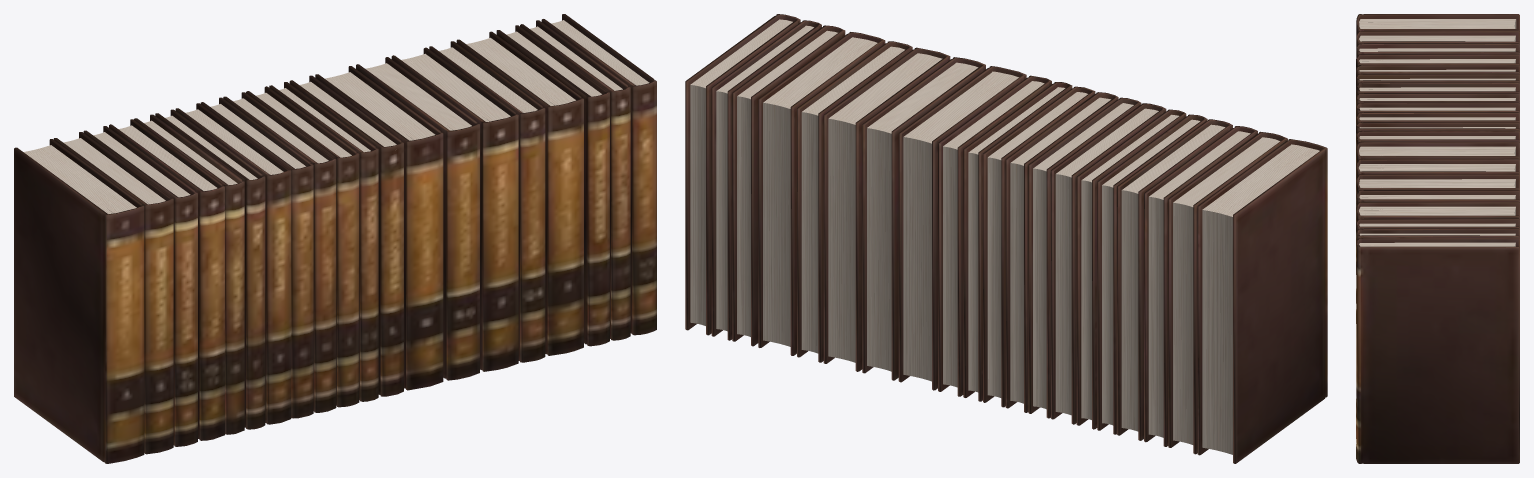
Rendered from book_encyclopedia_set_01.glb.
3 views of the same model, side by side, from view 1: azimuth 30°, elevation 25°; view 2: azimuth 150°, elevation 25°; view 3: azimuth 270°, elevation 25° (orthographic). The views are drawn at different scales.
Parts seen in each view (by area): view 1: book_encyclopedia_set_01_book01, book_encyclopedia_set_01_book13, book_encyclopedia_set_01_book17, book_encyclopedia_set_01_book15, book_encyclopedia_set_01_book14, book_encyclopedia_set_01_book02, book_encyclopedia_set_01_book16, book_encyclopedia_set_01_book04, book_encyclopedia_set_01_book20, book_encyclopedia_set_01_book07, book_encyclopedia_set_01_book18, book_encyclopedia_set_01_book12 (+8 smaller); view 2: book_encyclopedia_set_01_book01, book_encyclopedia_set_01_book13, book_encyclopedia_set_01_book15, book_encyclopedia_set_01_book17, book_encyclopedia_set_01_book14, book_encyclopedia_set_01_book02, book_encyclopedia_set_01_book04, book_encyclopedia_set_01_book16, book_encyclopedia_set_01_book18, book_encyclopedia_set_01_book20, book_encyclopedia_set_01_book07, book_encyclopedia_set_01_book12 (+8 smaller); view 3: book_encyclopedia_set_01_book20, book_encyclopedia_set_01_book13, book_encyclopedia_set_01_book01, book_encyclopedia_set_01_book17, book_encyclopedia_set_01_book15, book_encyclopedia_set_01_book14, book_encyclopedia_set_01_book02, book_encyclopedia_set_01_book04, book_encyclopedia_set_01_book16, book_encyclopedia_set_01_book03, book_encyclopedia_set_01_book18, book_encyclopedia_set_01_book12 (+8 smaller).
Boxes of the visible parts, <box> form: book_encyclopedia_set_01_book01: <box>14,139,144,463</box>; book_encyclopedia_set_01_book13: <box>315,66,443,390</box>; book_encyclopedia_set_01_book17: <box>456,31,583,355</box>; book_encyclopedia_set_01_book15: <box>391,47,518,371</box>; book_encyclopedia_set_01_book14: <box>356,57,479,380</box>; book_encyclopedia_set_01_book02: <box>53,132,173,454</box>; book_encyclopedia_set_01_book16: <box>429,41,545,362</box>; book_encyclopedia_set_01_book04: <box>109,119,224,440</box>; book_encyclopedia_set_01_book20: <box>541,14,656,335</box>; book_encyclopedia_set_01_book07: <box>175,103,291,424</box>; book_encyclopedia_set_01_book18: <box>496,25,609,346</box>; book_encyclopedia_set_01_book12: <box>289,75,403,396</box>; book_encyclopedia_set_01_book01: <box>1197,139,1327,463</box>; book_encyclopedia_set_01_book13: <box>898,66,1026,390</box>; book_encyclopedia_set_01_book15: <box>823,47,950,371</box>; book_encyclopedia_set_01_book17: <box>758,32,885,355</box>; book_encyclopedia_set_01_book14: <box>862,57,985,380</box>; book_encyclopedia_set_01_book02: <box>1168,131,1287,454</box>; book_encyclopedia_set_01_book04: <box>1117,119,1232,440</box>; book_encyclopedia_set_01_book16: <box>797,41,912,362</box>; book_encyclopedia_set_01_book18: <box>732,25,845,346</box>; book_encyclopedia_set_01_book20: <box>685,14,800,335</box>; book_encyclopedia_set_01_book07: <box>1051,103,1166,424</box>; book_encyclopedia_set_01_book12: <box>938,75,1051,396</box>; book_encyclopedia_set_01_book20: <box>1356,238,1519,463</box>; book_encyclopedia_set_01_book13: <box>1356,142,1519,162</box>; book_encyclopedia_set_01_book01: <box>1356,14,1519,34</box>; book_encyclopedia_set_01_book17: <box>1356,202,1519,221</box>; book_encyclopedia_set_01_book15: <box>1356,174,1519,221</box>; book_encyclopedia_set_01_book14: <box>1356,159,1519,178</box>; book_encyclopedia_set_01_book02: <box>1356,30,1519,46</box>; book_encyclopedia_set_01_book04: <box>1356,54,1519,274</box>; book_encyclopedia_set_01_book16: <box>1356,190,1519,206</box>; book_encyclopedia_set_01_book03: <box>1356,43,1519,57</box>; book_encyclopedia_set_01_book18: <box>1356,218,1519,438</box>; book_encyclopedia_set_01_book12: <box>1356,131,1519,162</box>.
Size of the model in its own units: 0.5513 by 0.2374 by 0.1631.
Materials: 2 (2 with a texture image).
